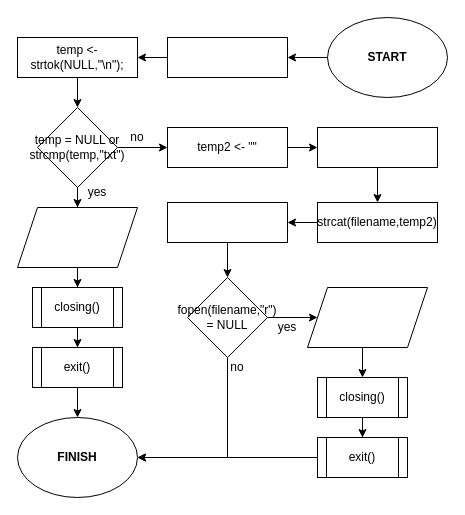
The diagram is 465 pixels wide and 515 high, and some of its shapes have lost their labels. Each missing label, with the centre of its shape:
output('file tidak ada'): pixel 367 317
output('format salah'): pixel 77 237
strcat(filename,"./input/"): pixel 377 147
strcat(filename,".txt");: pixel 227 222
temp <- strtok(filename,"."): pixel 227 57
